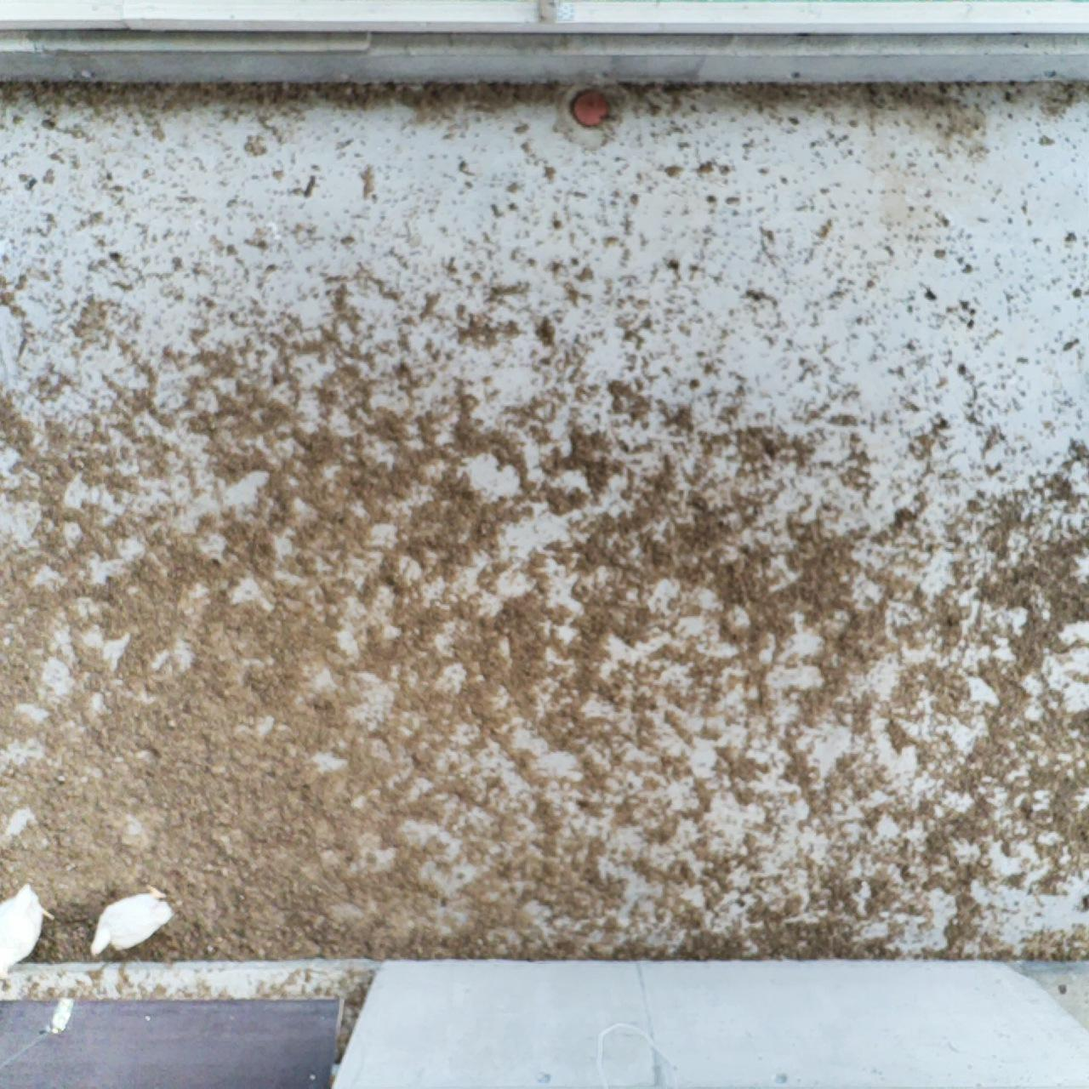chicken: (90, 884, 175, 958), (0, 881, 55, 984)
